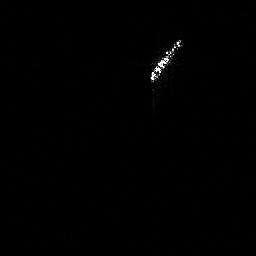ship: (145, 35, 187, 85)
